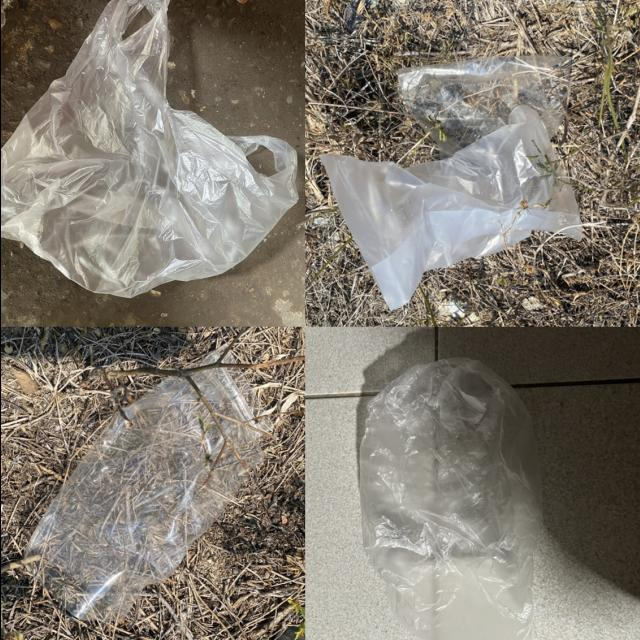plastik: (0, 0, 297, 298), (26, 351, 268, 621), (320, 105, 580, 310), (358, 359, 541, 640), (397, 55, 569, 156)
